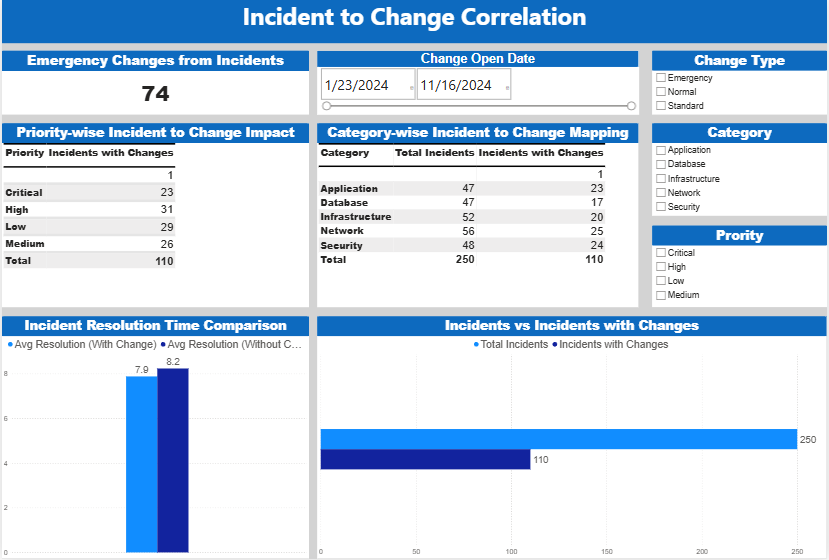

This screenshot's page, from the dashboard's own definition file:
{"tool":"powerbi","page":{"name":"Incident Change Correlation","canvas":[2500,1700],"ordinal":5},"visuals":[{"type":"clusteredBarChart","title":"Incidents vs Incidents with Changes","fields":{"Y":["servicenow_changes_220rows.Total Incidents","servicenow_changes_220rows.Incidents with Changes"]},"box":[956.7,966.7,1543.3,733.3],"z":0},{"type":"textbox","box":[0,0,2500,136.7],"z":1000},{"type":"pivotTable","title":"Category-wise Incident to Change Mapping","fields":{"Rows":["servicenow_incidents_250rows.Category"],"Values":["servicenow_changes_220rows.Total Incidents","servicenow_changes_220rows.Incidents with Changes"]},"box":[956.7,380,973.3,556.7],"z":2000},{"type":"pivotTable","title":"Priority-wise Incident to Change Impact","fields":{"Rows":["servicenow_incidents_250rows.Priority"],"Values":["servicenow_changes_220rows.Incidents with Changes"]},"box":[0,380,930,556.7],"z":3000},{"type":"clusteredColumnChart","title":"Incident Resolution Time Comparison","fields":{"Y":["servicenow_changes_220rows.Avg Resolution (With Change)","servicenow_changes_220rows.Avg Resolution (Without Change)"]},"box":[0,966.7,930,733.3],"z":4000},{"type":"card","title":"Emergency Changes from Incidents","fields":{"Values":["servicenow_changes_220rows.Emergency Changes"]},"box":[0,160,930,193.3],"z":5000},{"type":"slicer","title":"Change Open Date","fields":{"Values":["servicenow_changes_220rows.Opened_At"]},"box":[956.7,160,973.3,193.3],"z":6000},{"type":"slicer","title":"Change Type","fields":{"Values":["servicenow_changes_220rows.Change_Type"]},"box":[1970,160,530,193.3],"z":7000},{"type":"slicer","title":"Category","fields":{"Values":["servicenow_changes_220rows.Category"]},"box":[1970,380,530,280],"z":8000},{"type":"slicer","title":"Prority","fields":{"Values":["servicenow_changes_220rows.Priority"]},"box":[1970,690,530,246.7],"z":9000}]}

Visuals, with their boxes in screenshot pixels (x1, y1, x2, y2), scaled from the page's 2500x1700 canvas onto the 829x560 screenshot:
"Incidents vs Incidents with Changes" clusteredBarChart: x1=317, y1=318, x2=828, y2=559
textbox: x1=0, y1=0, x2=828, y2=45
"Category-wise Incident to Change Mapping" pivotTable: x1=317, y1=125, x2=640, y2=309
"Priority-wise Incident to Change Impact" pivotTable: x1=0, y1=125, x2=308, y2=309
"Incident Resolution Time Comparison" clusteredColumnChart: x1=0, y1=318, x2=308, y2=559
"Emergency Changes from Incidents" card: x1=0, y1=53, x2=308, y2=116
"Change Open Date" slicer: x1=317, y1=53, x2=640, y2=116
"Change Type" slicer: x1=653, y1=53, x2=828, y2=116
"Category" slicer: x1=653, y1=125, x2=828, y2=217
"Prority" slicer: x1=653, y1=227, x2=828, y2=309
